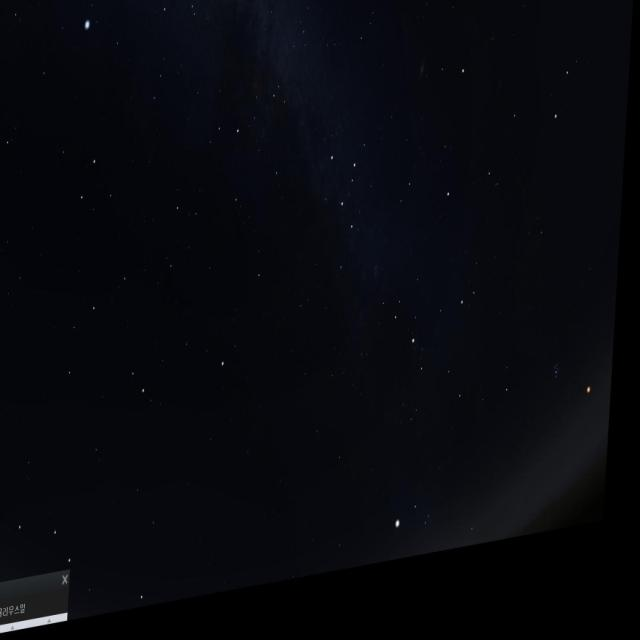cassiopeia: (321, 153, 375, 298)
pleiades: (555, 374, 573, 420)
